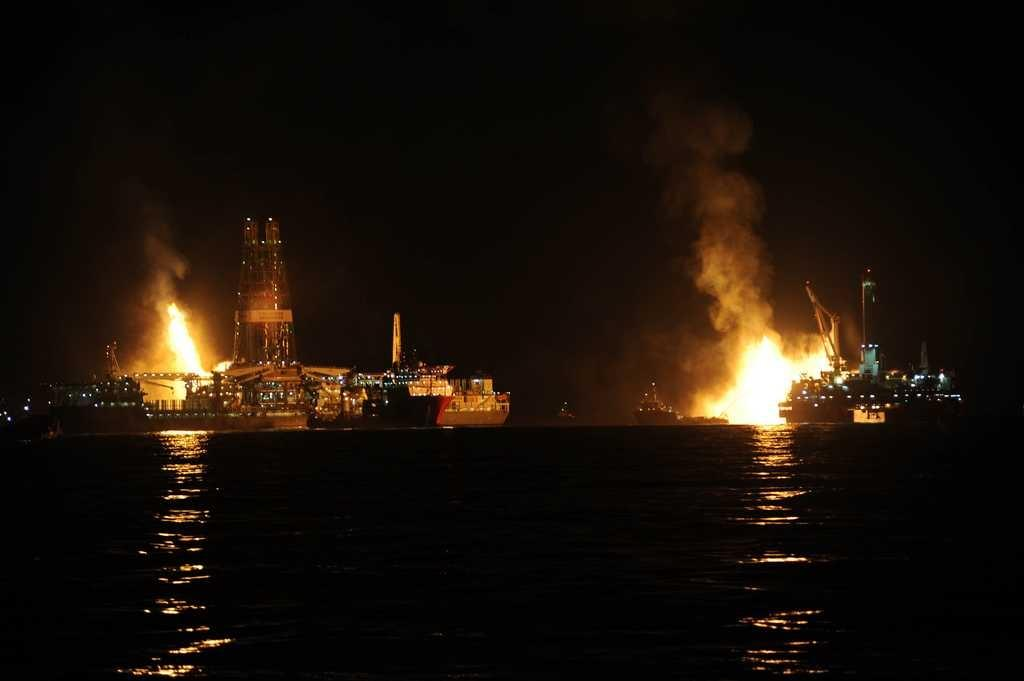fire: (713, 318, 856, 433), (143, 306, 224, 415)
